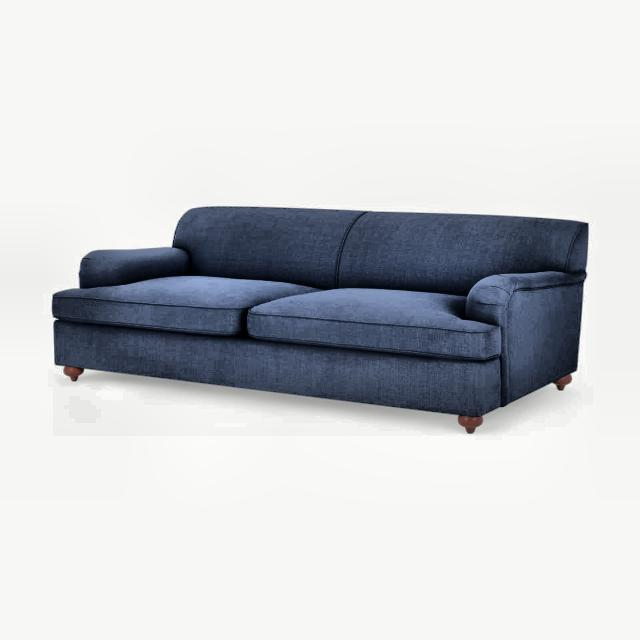sofa: (51, 206, 591, 431)
